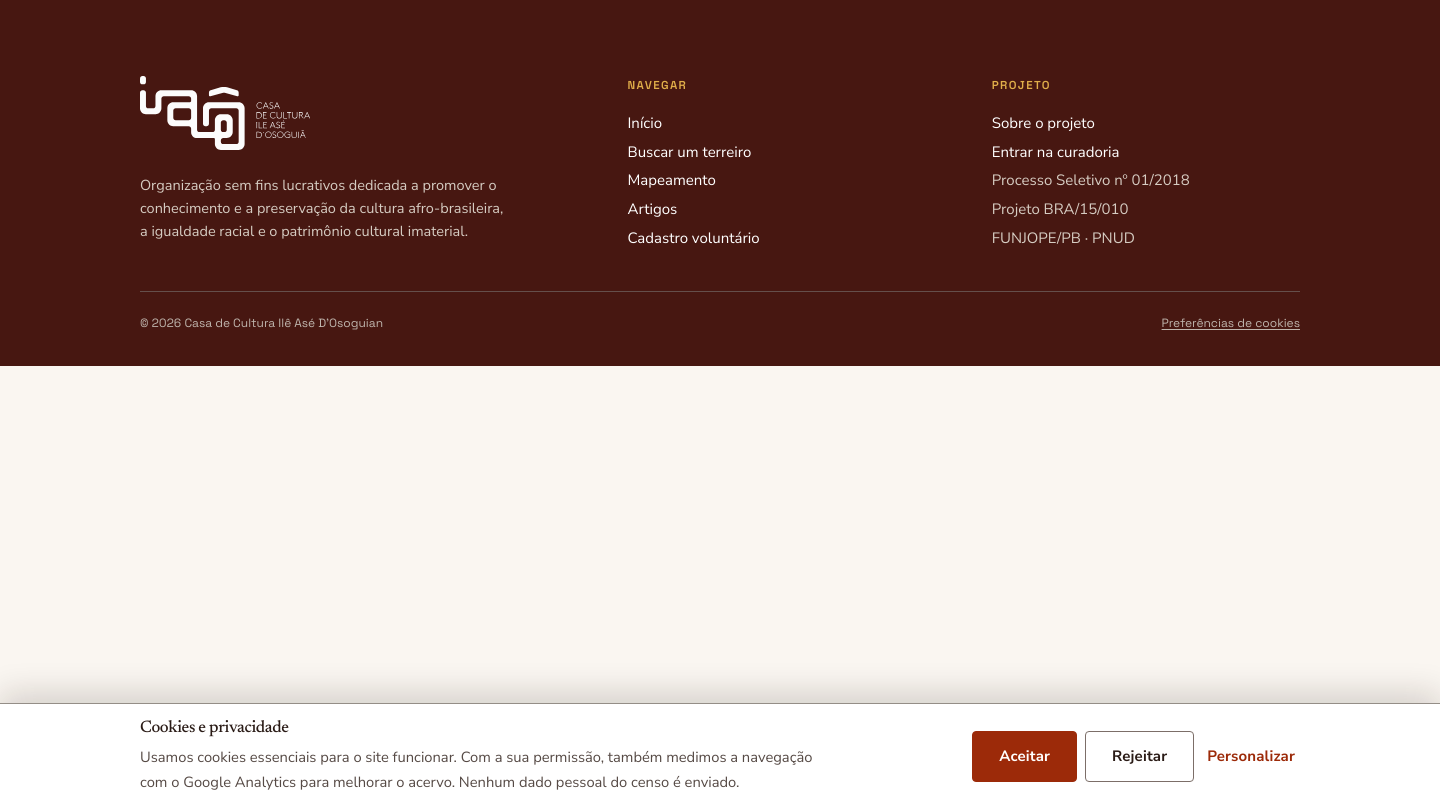
CookieBanner › personalizar permite salvar apenas os essenciais
The width and height of the screenshot is (1440, 810).
Click the button "Personalizar": (1251, 757) [1202, 731, 1300, 782]
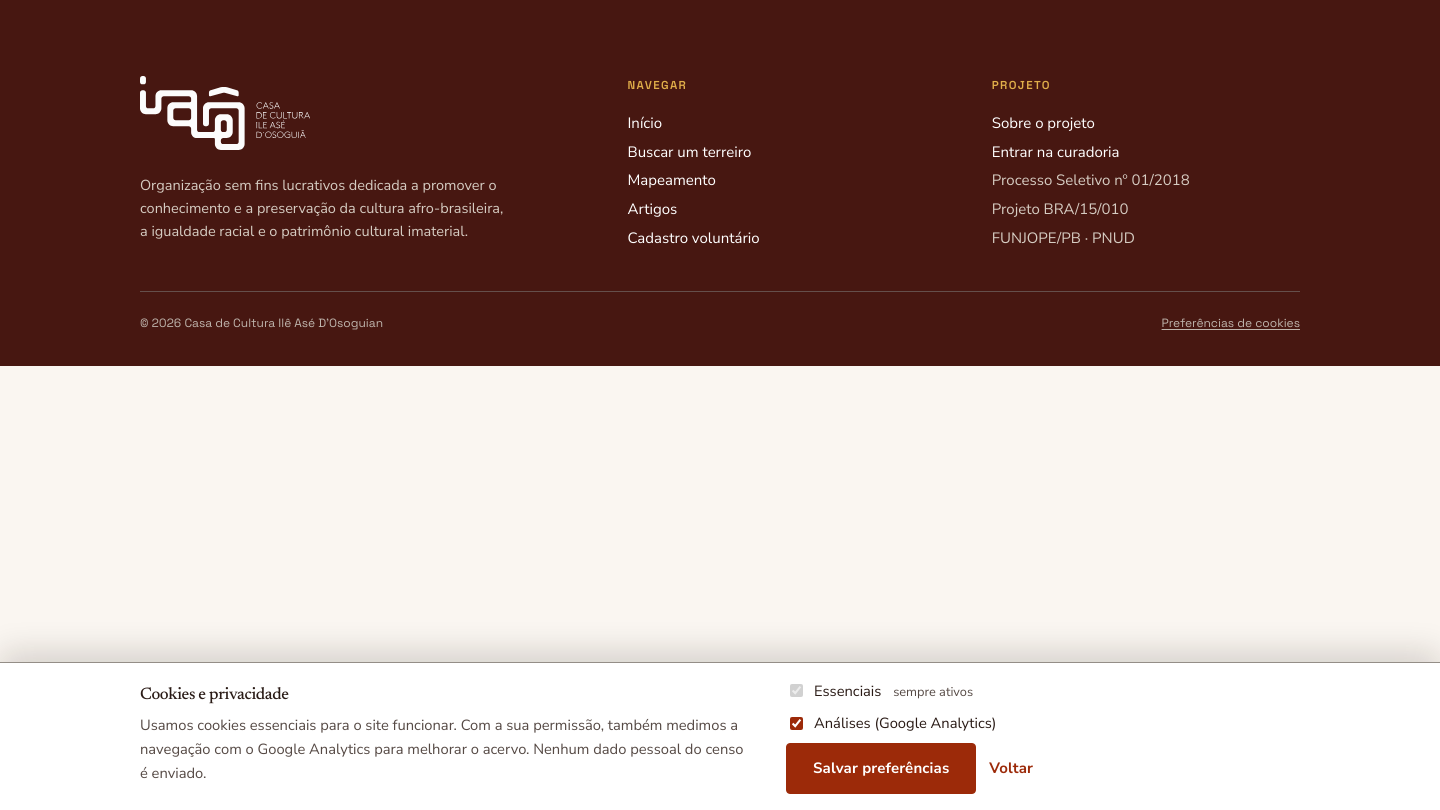
Expected: the checkbox labelled "Essenciais sempre ativos" is checked, [790, 684, 803, 697]
Expected: the checkbox labelled "Essenciais sempre ativos" is disabled, [790, 684, 803, 697]
Expected: the checkbox labelled "Análises (Google Analytics)" is checked
Click the checkbox labelled "Análises (Google Analytics)": (796, 723) [790, 717, 803, 730]
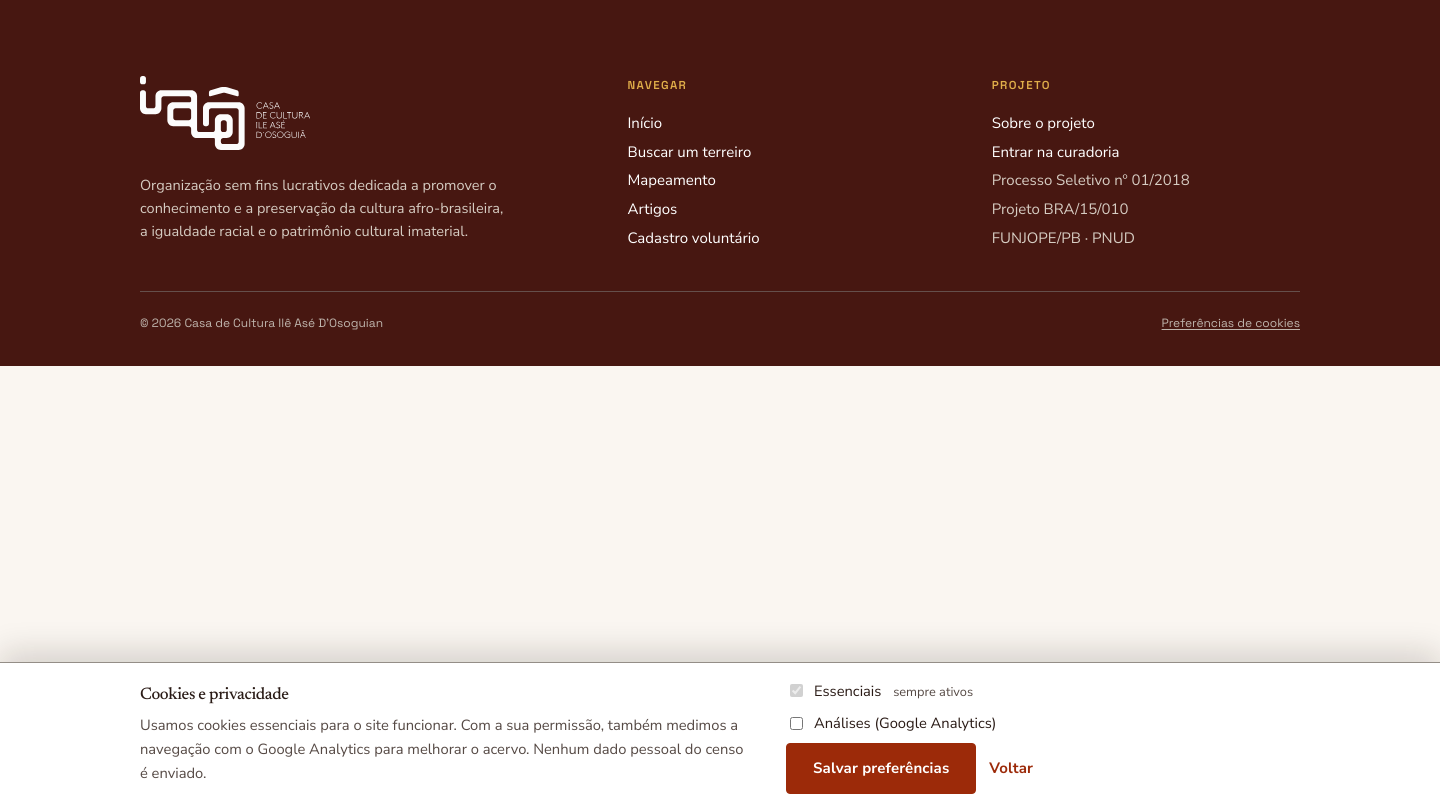
Click the button "Salvar preferências": (881, 769) [786, 743, 976, 794]
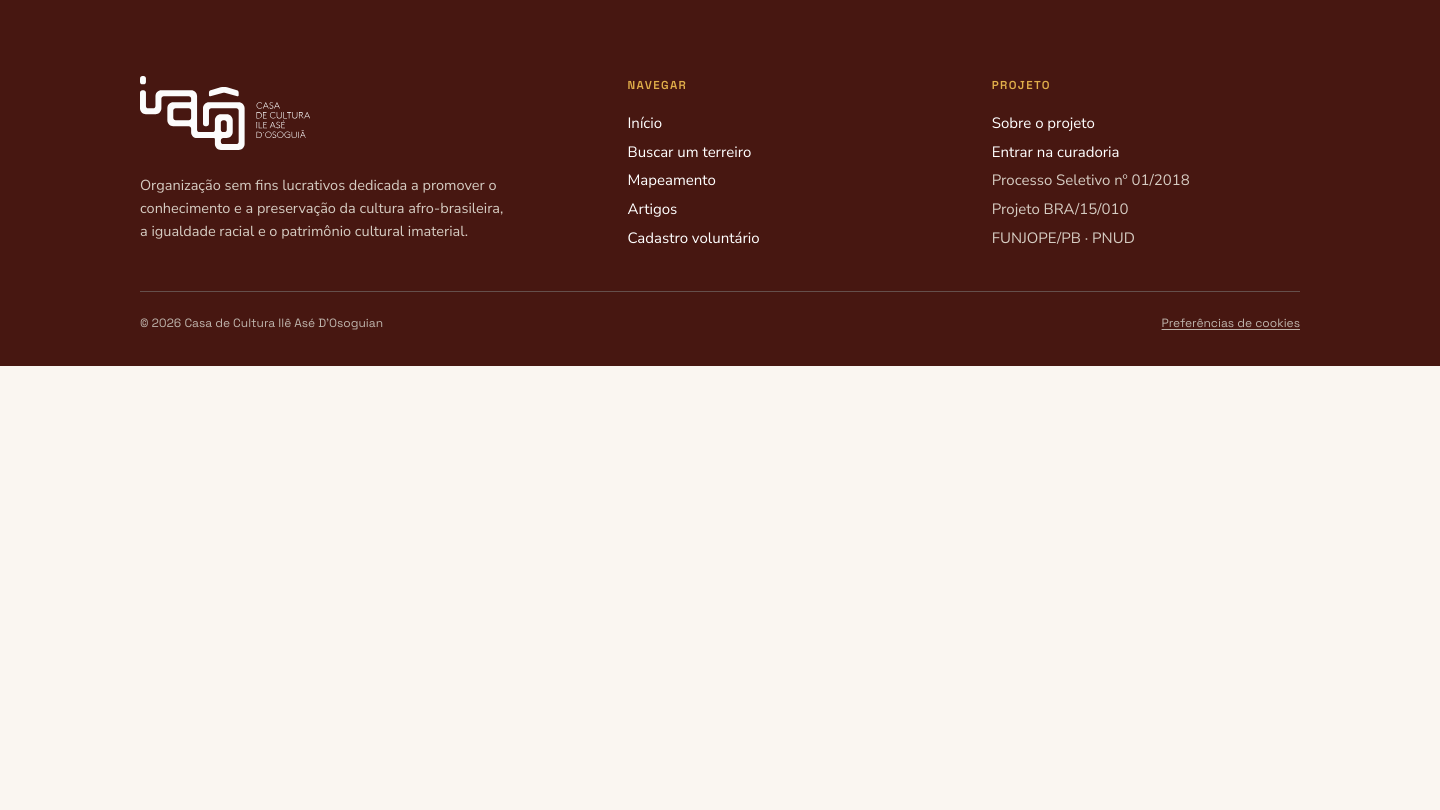
Expected: the heading "Cookies e privacidade" is gone
